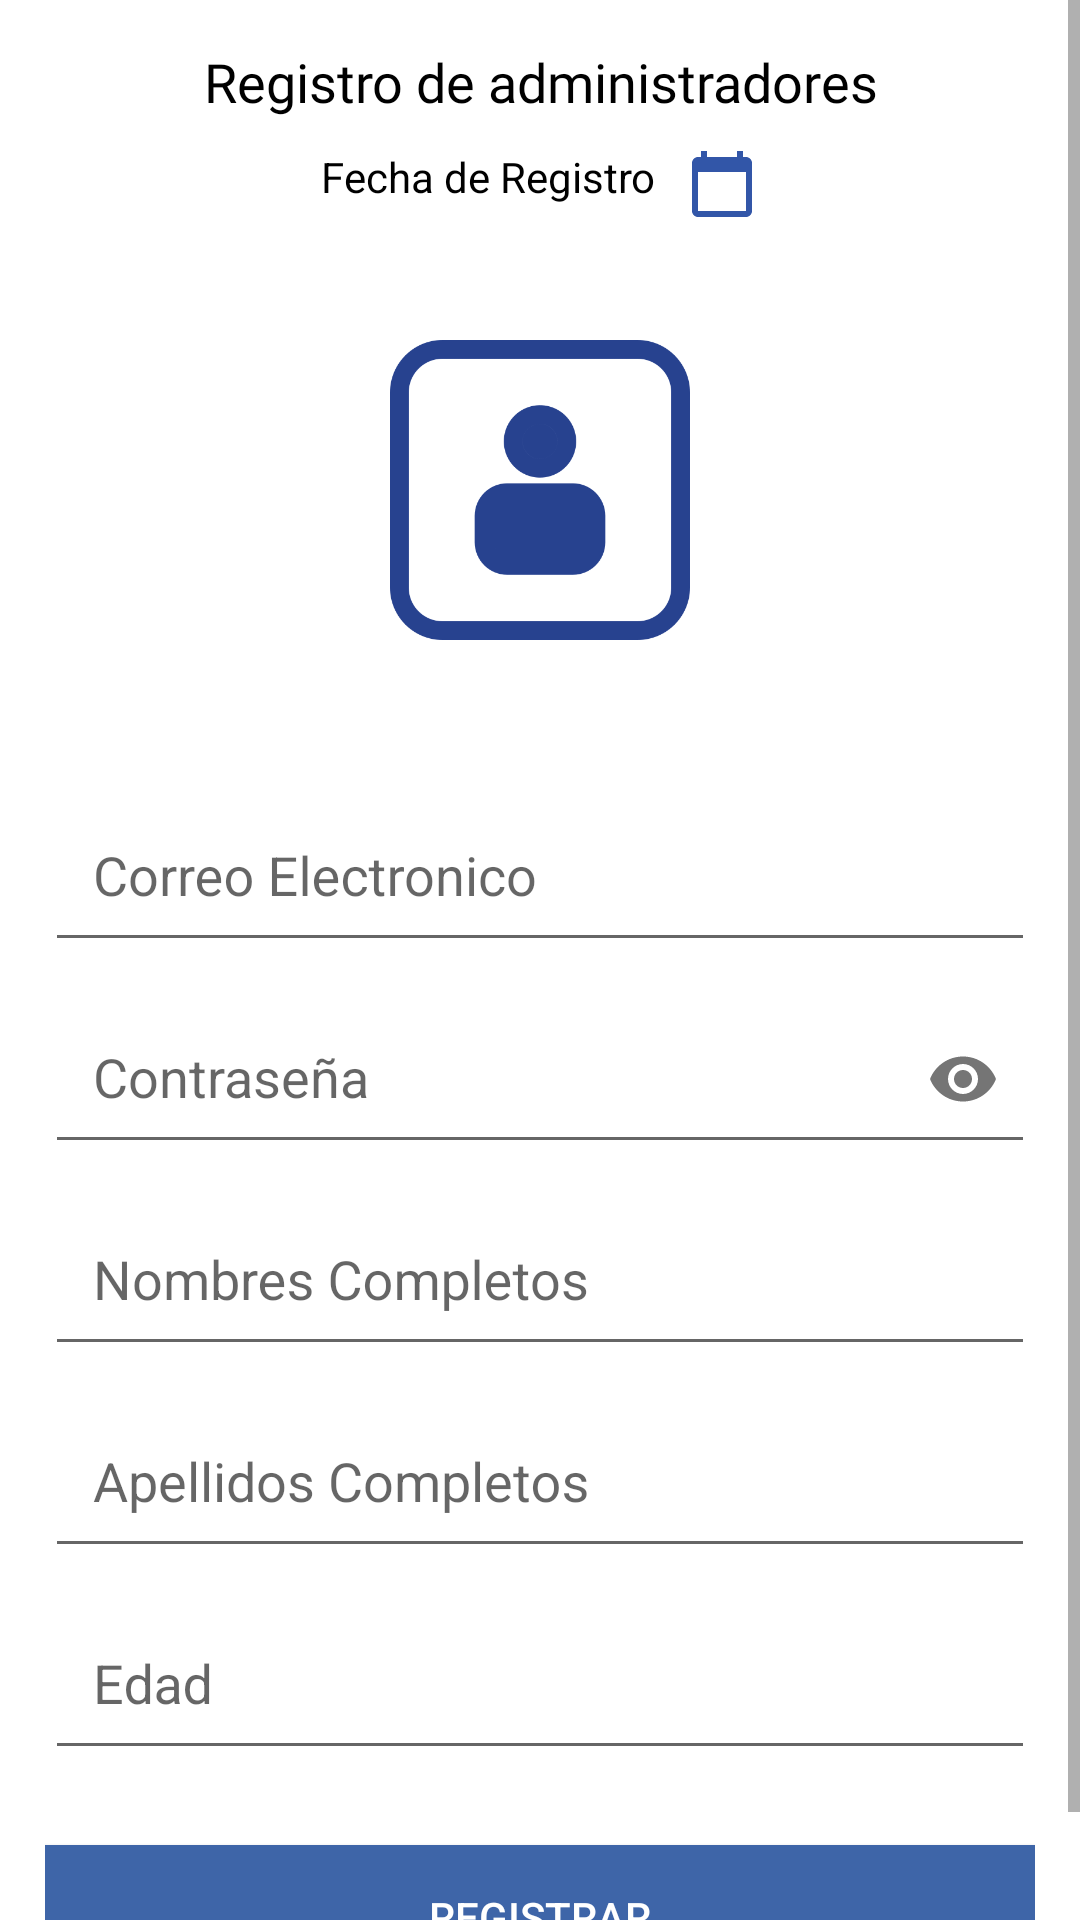

Screen size 1080 × 1920. Icon name, then its center in pixels as (x,y):
admin: (540,490)
calendario: (722,184)
